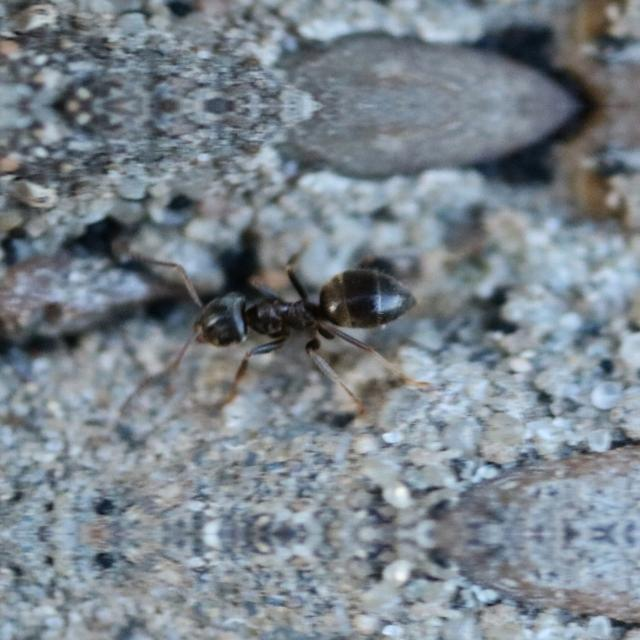Lasius: (157, 241, 406, 367)
